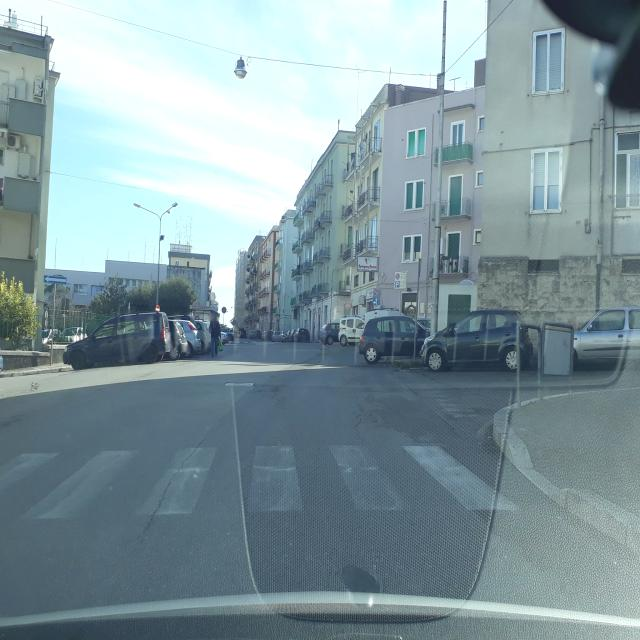car: (420, 307, 541, 373), (62, 312, 172, 370), (567, 304, 640, 371), (358, 315, 433, 364), (176, 319, 202, 355), (168, 319, 189, 359), (338, 316, 366, 346), (320, 321, 341, 345), (296, 328, 312, 343), (249, 329, 263, 340), (286, 328, 296, 342), (238, 328, 248, 339)
